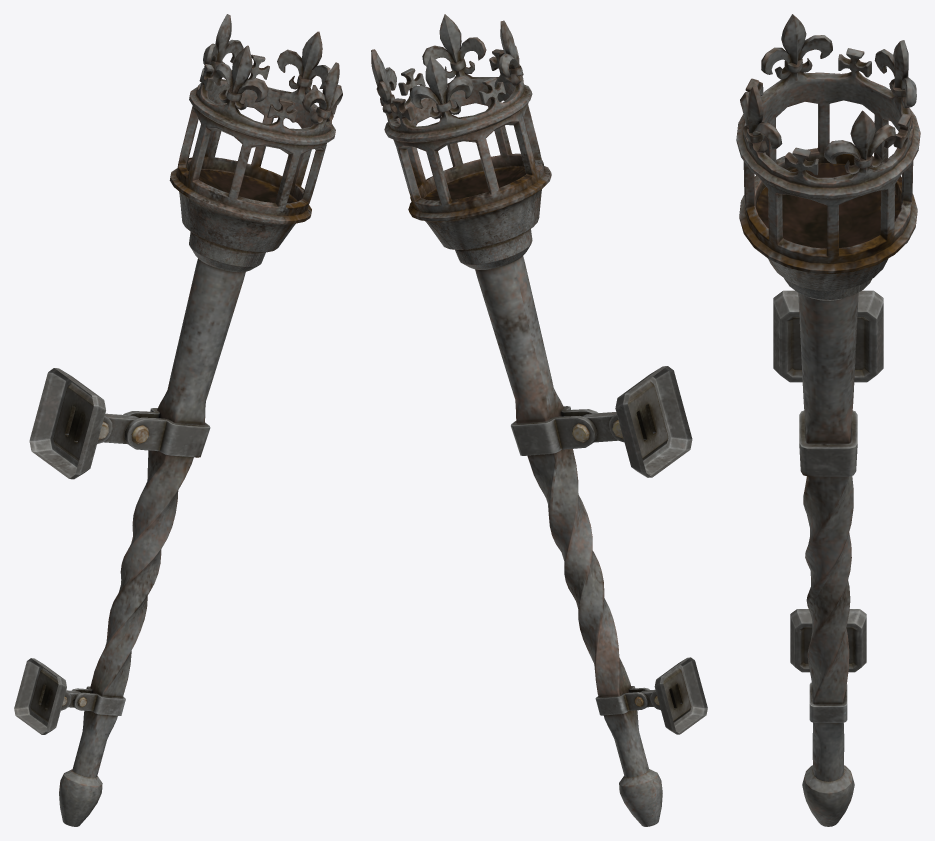
The model's file is medieval-torch.glb.
The picture shows the model from 3 angles, left to right: view 1: azimuth 30°, elevation 25°; view 2: azimuth 150°, elevation 25°; view 3: azimuth 270°, elevation 25°; orthographic projection. The views are drawn at different scales.
Parts seen in each view (by area): view 1: antorcha; view 2: antorcha; view 3: antorcha.
Part boxes in pixels (bbox=[...]): antorcha: bbox=[14, 14, 342, 826]; antorcha: bbox=[371, 14, 707, 826]; antorcha: bbox=[736, 14, 920, 826].
Bounding box in the file's own units: 0.8354 × 1.96 × 0.3624.
1 material, 1 textured.
